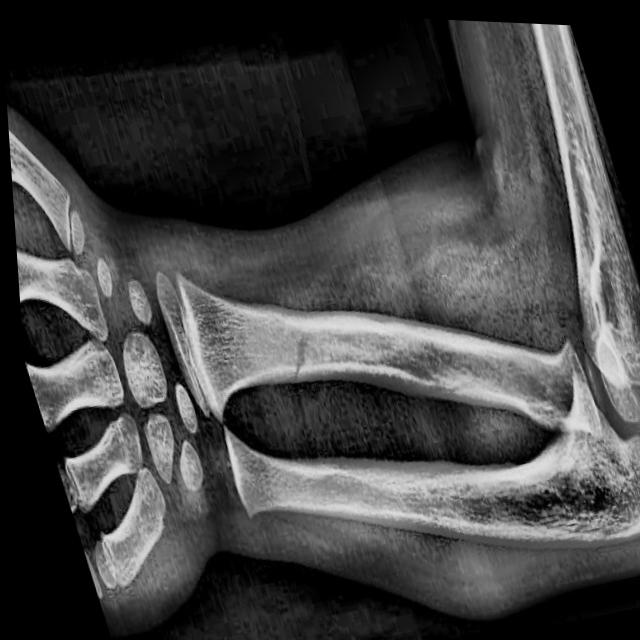fracture: (276, 328, 310, 377)
